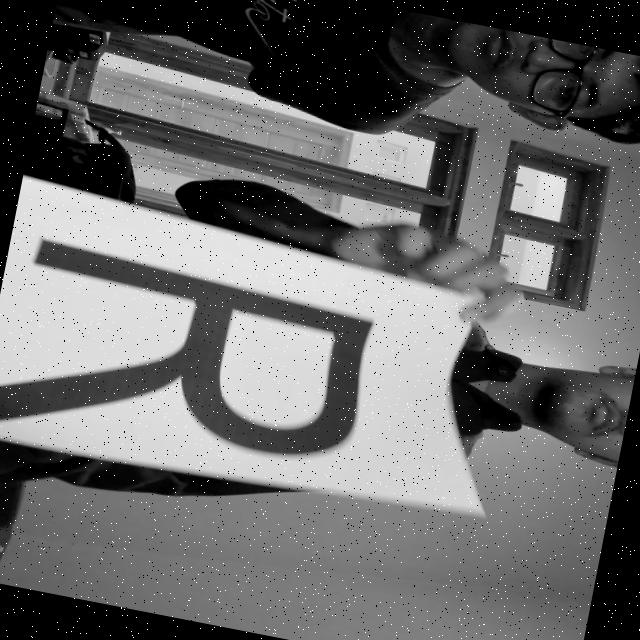r: (0, 219, 382, 531)
